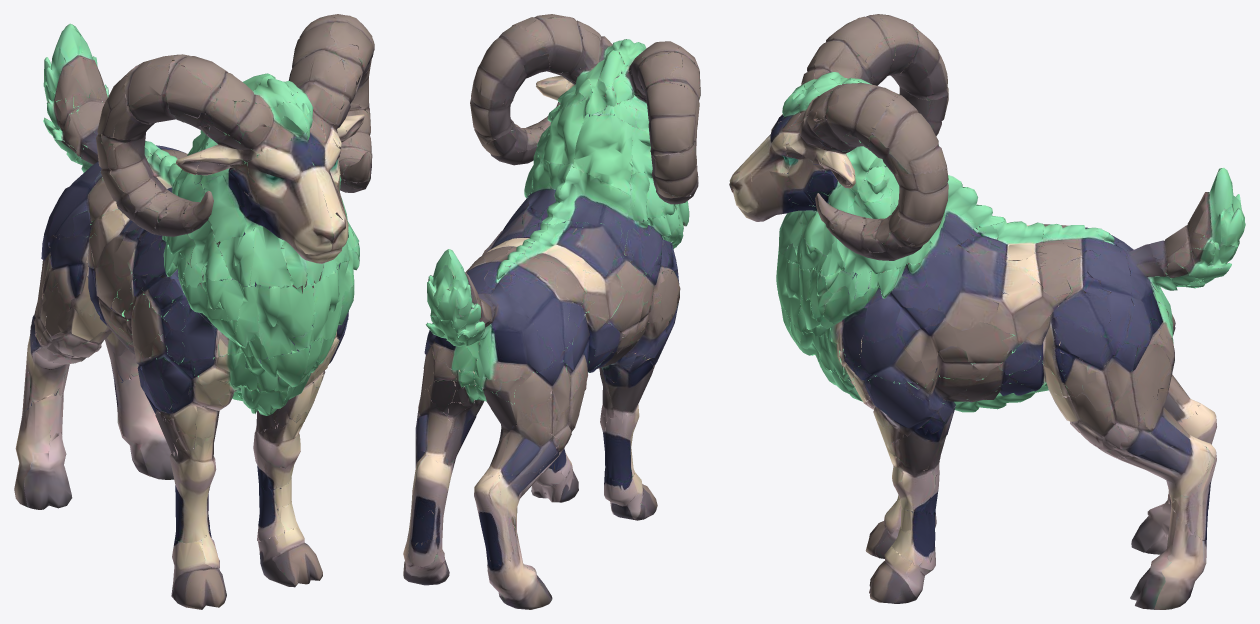
3 renders of one model, left to right at view 1: azimuth 30°, elevation 25°; view 2: azimuth 150°, elevation 25°; view 3: azimuth 270°, elevation 25°, orthographic. The views are drawn at different scales.
Parts seen in each view (by area): view 1: Mesh_0; view 2: Mesh_0; view 3: Mesh_0.
Boxes of the visible parts, x1=… form: Mesh_0: x1=14, y1=14, x2=374, y2=609; Mesh_0: x1=403, y1=14, x2=700, y2=609; Mesh_0: x1=729, y1=14, x2=1245, y2=609.
Size of the model in its own units: 0.9533 by 1.9 by 1.72.
1 material, 1 textured.
